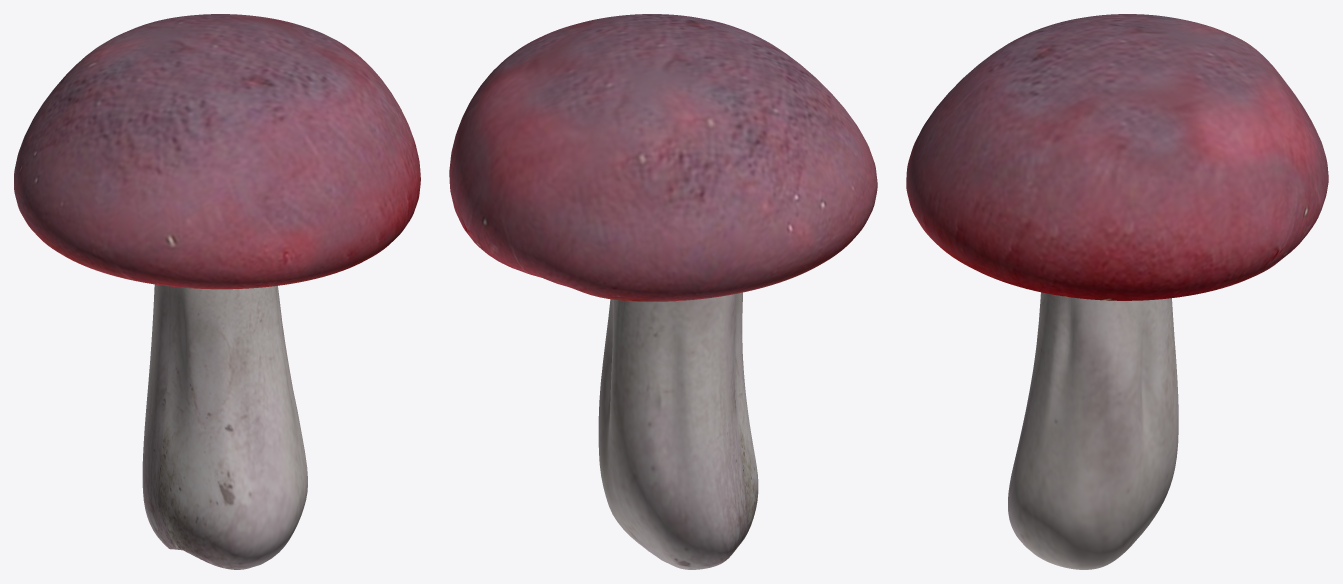
The model's file is SENE_32.fbx.
3 views of the same model, side by side, from view 1: azimuth 30°, elevation 25°; view 2: azimuth 150°, elevation 25°; view 3: azimuth 270°, elevation 25° (orthographic). The views are drawn at different scales.
Parts seen in each view (by area): view 1: SENE_32; view 2: SENE_32; view 3: SENE_32.
Boxes of the visible parts, <box> form: SENE_32: <box>14,14,420,569</box>; SENE_32: <box>449,14,877,569</box>; SENE_32: <box>906,14,1328,569</box>.
Size of the model in its own units: 46.06 by 62.58 by 45.71.
1 material, 1 textured.
